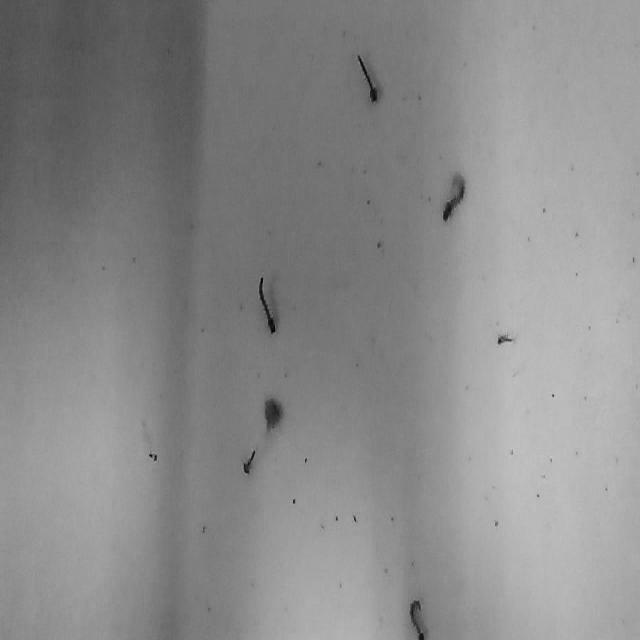larvas: (258, 274, 277, 336), (356, 52, 378, 102), (442, 171, 464, 221), (408, 597, 426, 639), (264, 398, 282, 433), (242, 448, 256, 474), (496, 330, 518, 344)
